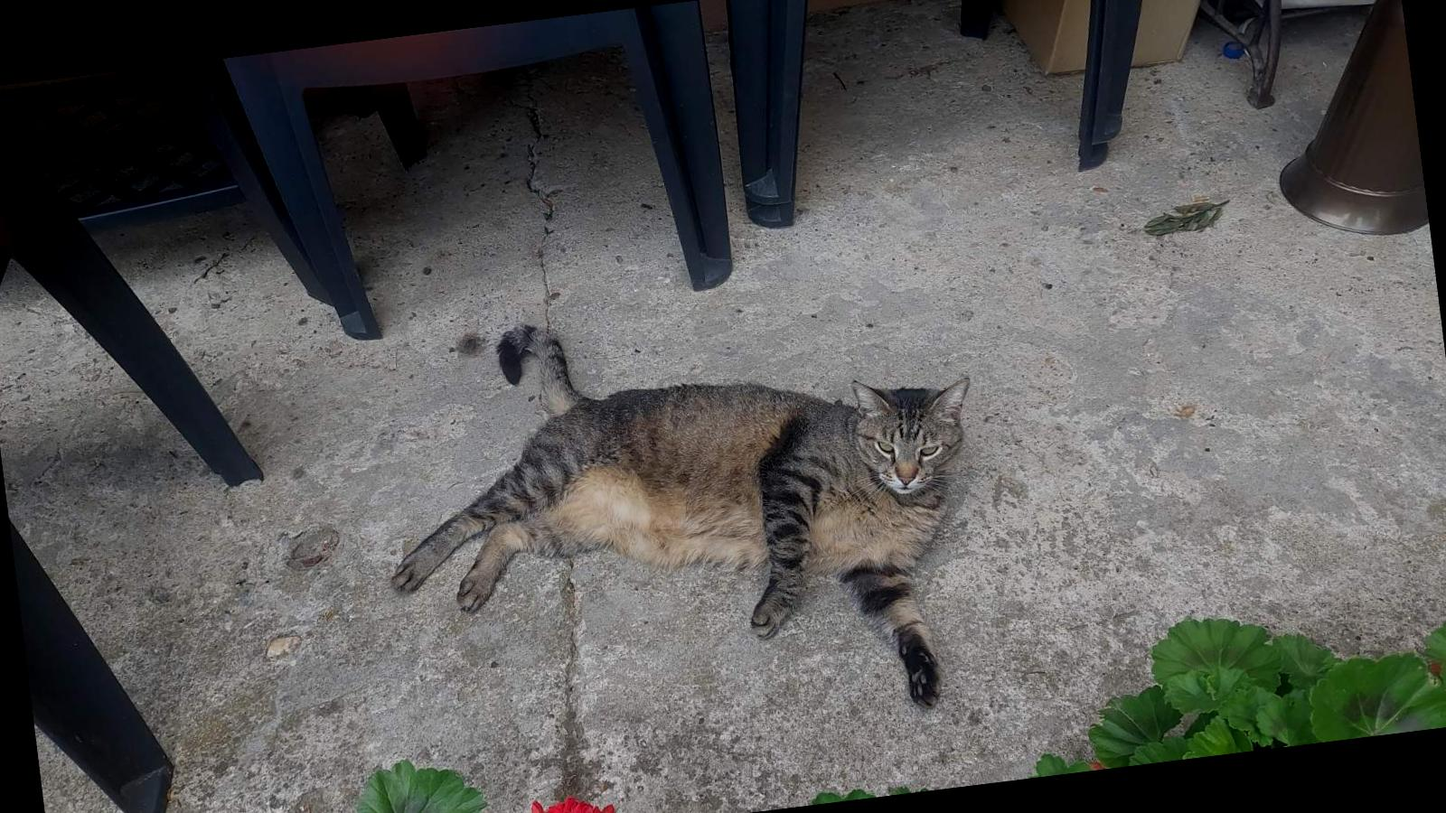macka: (360, 267, 1010, 771)
